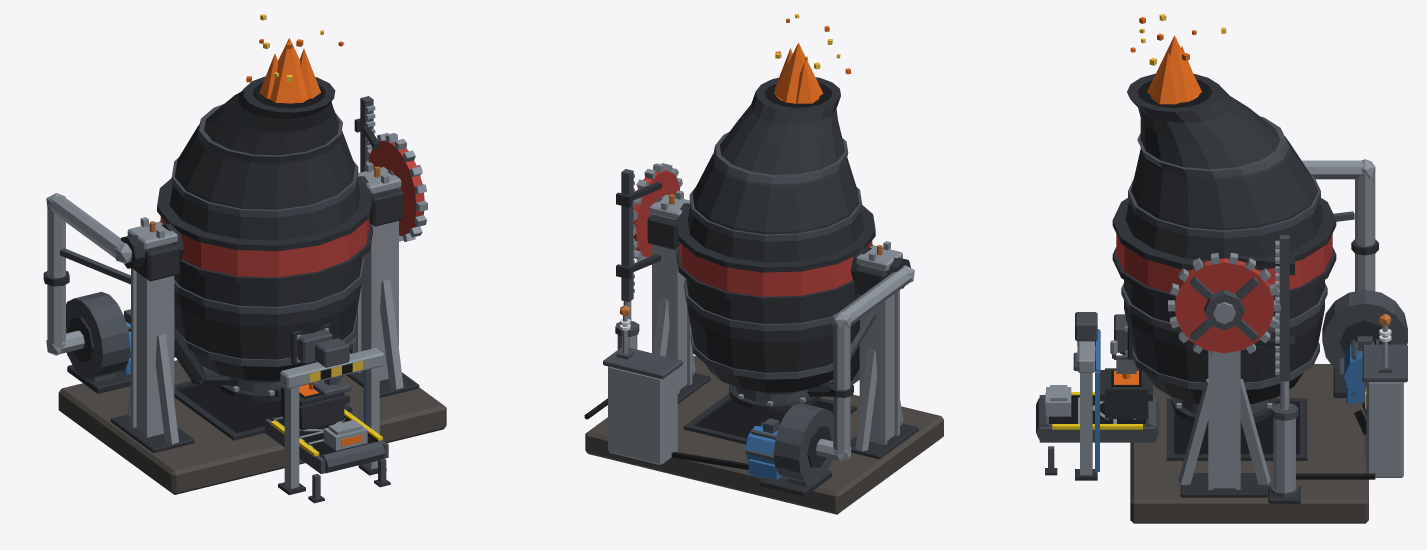
File: convertisseur_t2.glb
3 renders of one model, left to right at view 1: azimuth 30°, elevation 25°; view 2: azimuth 150°, elevation 25°; view 3: azimuth 270°, elevation 25°, orthographic. The views are drawn at different scales.
Visible parts, largest first — view 1: cornue_corps.002, pieces_acier.004, socle.004, pieces_fonte.007, pieces_acier_sombre.007, cornue_ceinture.002, soufflante_volute.002, cornue_ceinture_bord_0.002, fosse.002, cornue_rouge.002, cornue_cercle_2.004, cornue_cercle_1.002 (+11 smaller); view 2: cornue_corps.002, pieces_acier.004, socle.004, armoire.002, pieces_fonte.007, cornue_ceinture.002, soufflante_volute.002, cornue_ceinture_bord_0.002, pieces_acier_sombre.007, cornue_levre.002, fosse.002, cornue_cercle_2.004 (+16 smaller); view 3: cornue_corps.002, socle.004, pieces_acier.004, pieces_acier_sombre.007, cornue_rouge.002, pieces_fonte.007, armoire.002, soufflante_volute.002, cornue_ceinture.002, cornue_ceinture_bord_0.002, cornue_levre.002, cornue_acier.002 (+19 smaller).
Part boxes in pixels (box(x1,y1,x2,y2)): cornue_corps.002: box(169, 82, 361, 382); pieces_acier.004: box(46, 105, 403, 488); socle.004: box(58, 339, 446, 494); pieces_fonte.007: box(43, 118, 419, 503); pieces_acier_sombre.007: box(60, 96, 388, 499); cornue_ceinture.002: box(160, 216, 369, 277); soufflante_volute.002: box(66, 291, 130, 379); cornue_ceinture_bord_0.002: box(157, 176, 372, 251); fosse.002: box(178, 385, 280, 432); cornue_rouge.002: box(368, 140, 424, 235); cornue_cercle_2.004: box(171, 157, 358, 217); cornue_cercle_1.002: box(174, 258, 364, 314); cornue_corps.002: box(686, 88, 863, 394); pieces_acier.004: box(617, 174, 914, 461); socle.004: box(585, 356, 943, 514); armoire.002: box(608, 366, 677, 464); pieces_fonte.007: box(616, 182, 918, 497); cornue_ceinture.002: box(679, 241, 872, 296); soufflante_volute.002: box(773, 403, 833, 483); cornue_ceinture_bord_0.002: box(676, 203, 875, 272); pieces_acier_sombre.007: box(615, 169, 875, 486); cornue_levre.002: box(751, 77, 840, 125); fosse.002: box(696, 399, 833, 438); cornue_cercle_2.004: box(689, 187, 862, 241); cornue_corps.002: box(1124, 79, 1324, 404); socle.004: box(1130, 364, 1368, 523); pieces_acier.004: box(1077, 159, 1387, 492); pieces_acier_sombre.007: box(1036, 211, 1392, 498); cornue_rouge.002: box(1174, 258, 1274, 353); pieces_fonte.007: box(1045, 239, 1378, 503); armoire.002: box(1366, 382, 1403, 477); soufflante_volute.002: box(1322, 289, 1407, 372); cornue_ceinture.002: box(1116, 234, 1332, 292); cornue_ceinture_bord_0.002: box(1112, 198, 1336, 270); cornue_levre.002: box(1127, 73, 1233, 122); cornue_acier.002: box(1168, 253, 1280, 408).
Bounding box in the file's own units: 1.5 × 1.91 × 1.5.
